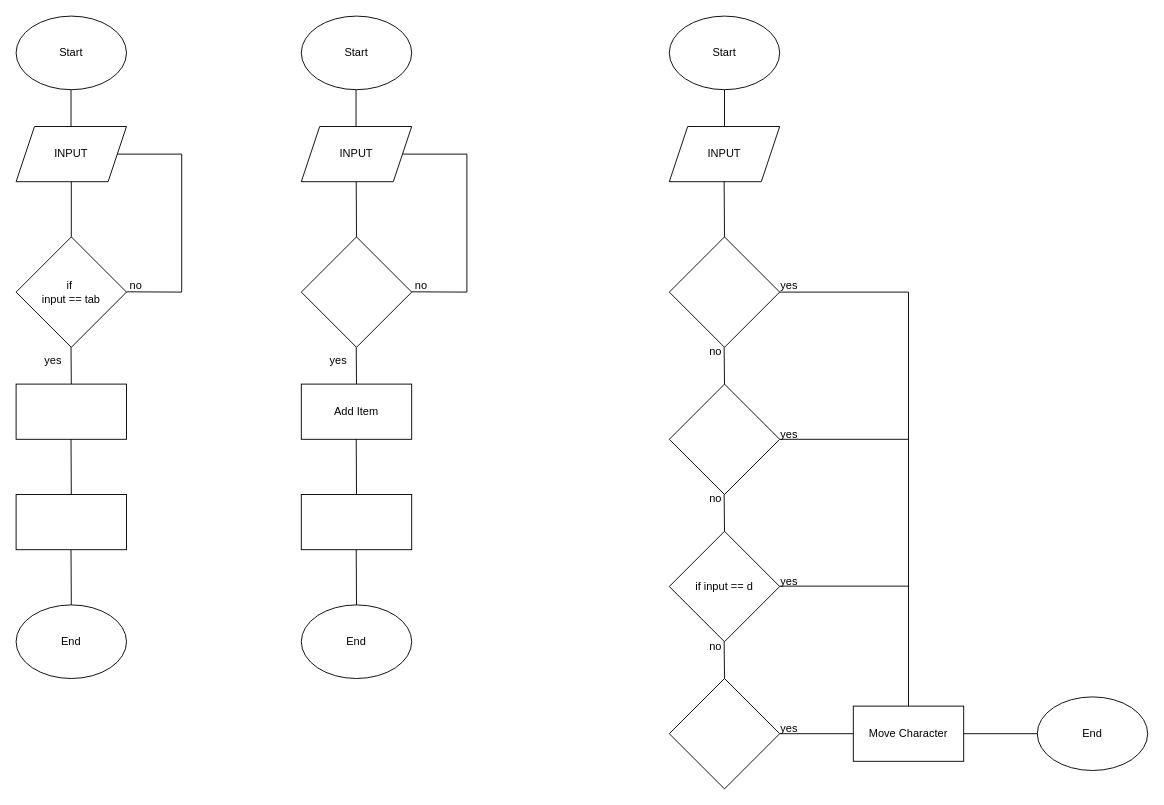
The diagram is 1164 pixels wide and 805 high, and some of its shapes have lost their labels. Here are the shapes that lost their labels. From the top down, the centre of each, then its label:
At (x=356, y=291): "if anyItemNearby == true".
At (x=724, y=291): "if input == w".
At (x=70, y=411): "Open Inventory".
At (x=724, y=438): "if input == a".
At (x=70, y=522): "Show Item".
At (x=356, y=522): "Generate Dialouge".
At (x=724, y=733): "if input == s".
